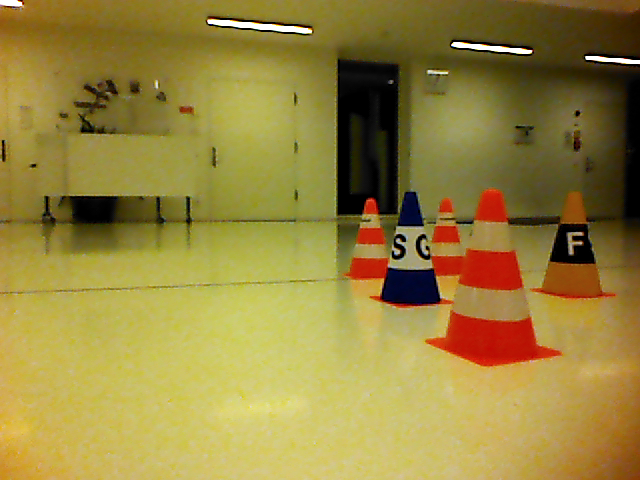bluecone: (381, 192, 441, 304)
orangeconesmall: (445, 186, 539, 355)
yellowcone: (543, 191, 602, 296)
